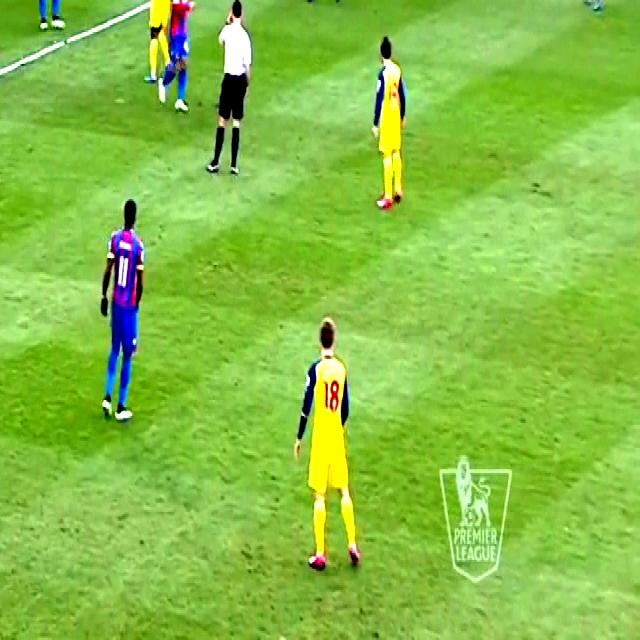referee: (203, 2, 268, 182)
soccer-player: (286, 320, 377, 584), (82, 199, 166, 436), (354, 26, 419, 218), (128, 0, 198, 114), (19, 0, 82, 44), (568, 0, 628, 20), (295, 0, 364, 12), (0, 0, 4, 69)
